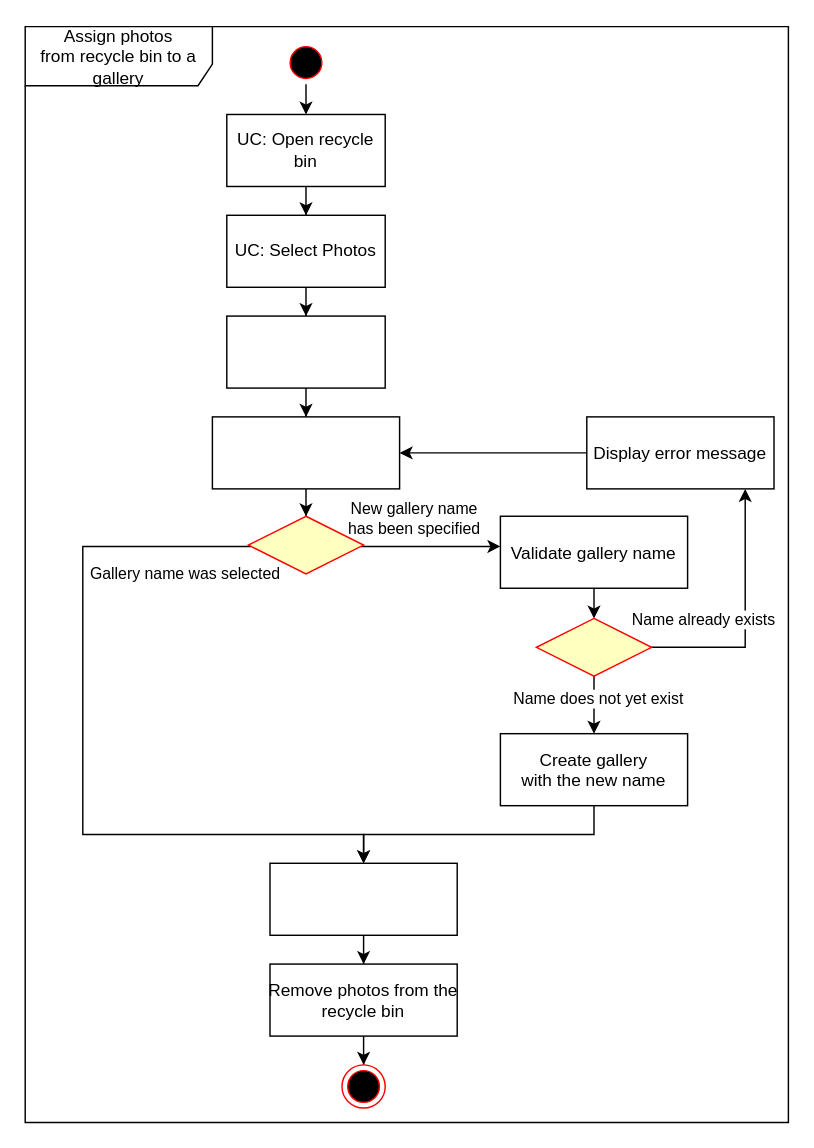
This 814x1148 diagram has some shape labels left out. The shapes that lost their labels are listed below. From the top down, each one's centre as x and y in pixels, then its label:
the point at 305,351: Click to assign to gallery
the point at 305,452: Show all possible gallery names
the point at 363,898: View all photos at and add to gallery
